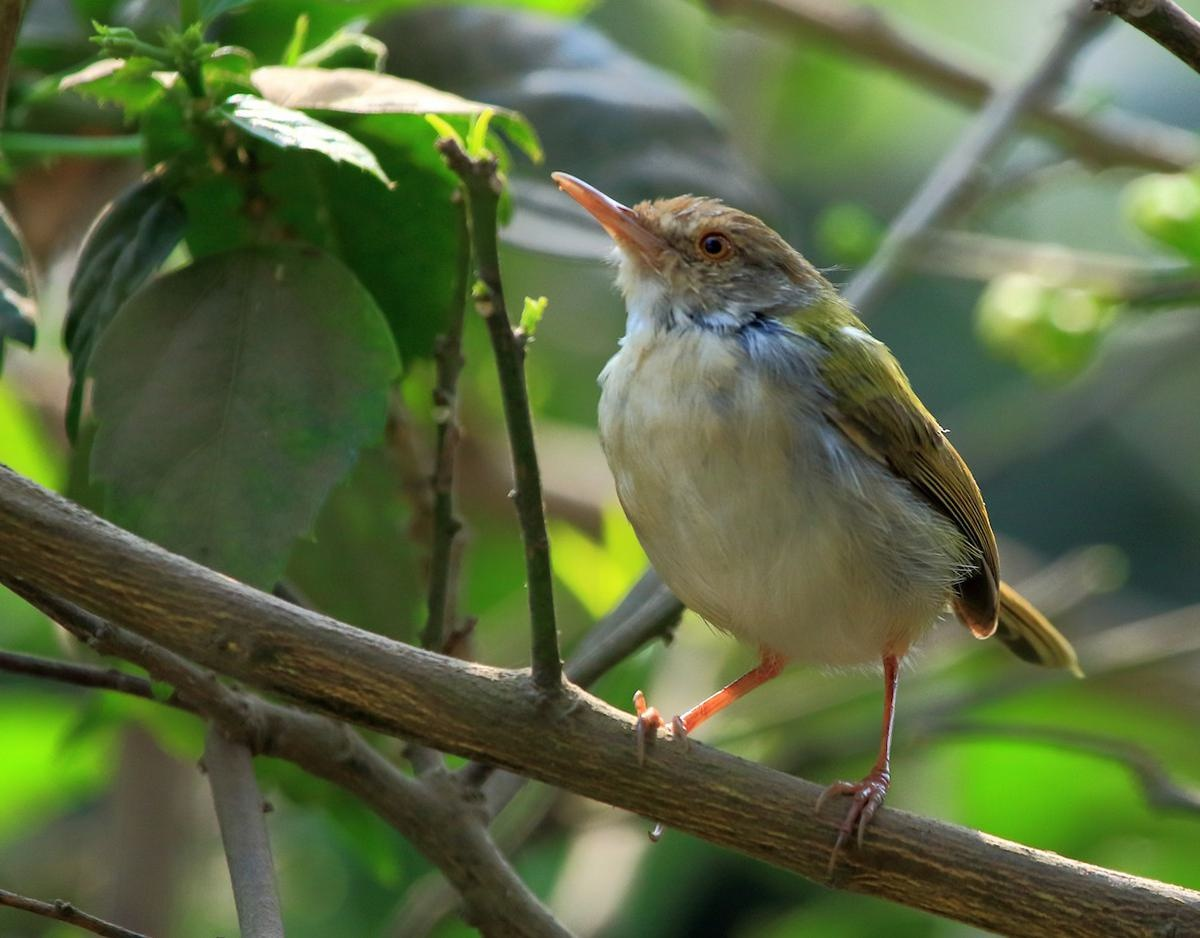tailorbird: (551, 146, 1117, 773)
